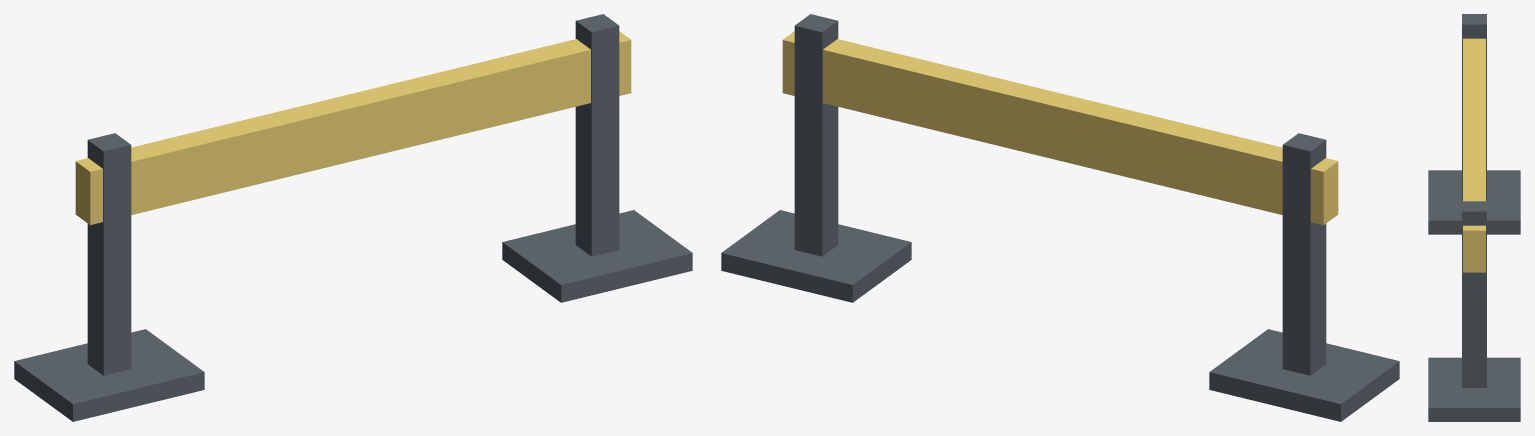
The model's file is barrier_lod0.glb.
The picture shows the model from 3 angles, left to right: view 1: azimuth 30°, elevation 25°; view 2: azimuth 150°, elevation 25°; view 3: azimuth 270°, elevation 25°; orthographic projection. The views are drawn at different scales.
Parts seen in each view (by area): view 1: part_2, part_4, part_3, part_0, part_1; view 2: part_2, part_4, part_3, part_0, part_1; view 3: part_4, part_2, part_3, part_1, part_0.
Boxes of the visible parts, x1,y1,x2,y2 form: part_2: (75, 31, 631, 225); part_4: (502, 210, 692, 302); part_3: (14, 329, 204, 421); part_0: (87, 133, 131, 375); part_1: (575, 14, 619, 256); part_2: (782, 31, 1338, 225); part_4: (721, 210, 911, 302); part_3: (1209, 329, 1399, 421); part_0: (1282, 133, 1326, 375); part_1: (794, 14, 838, 256); part_4: (1428, 357, 1520, 421); part_2: (1463, 38, 1485, 272); part_3: (1428, 170, 1520, 234); part_1: (1462, 201, 1486, 387); part_0: (1462, 14, 1486, 200).
Bounding box in the file's own units: 2.92 × 1.1 × 0.48.
